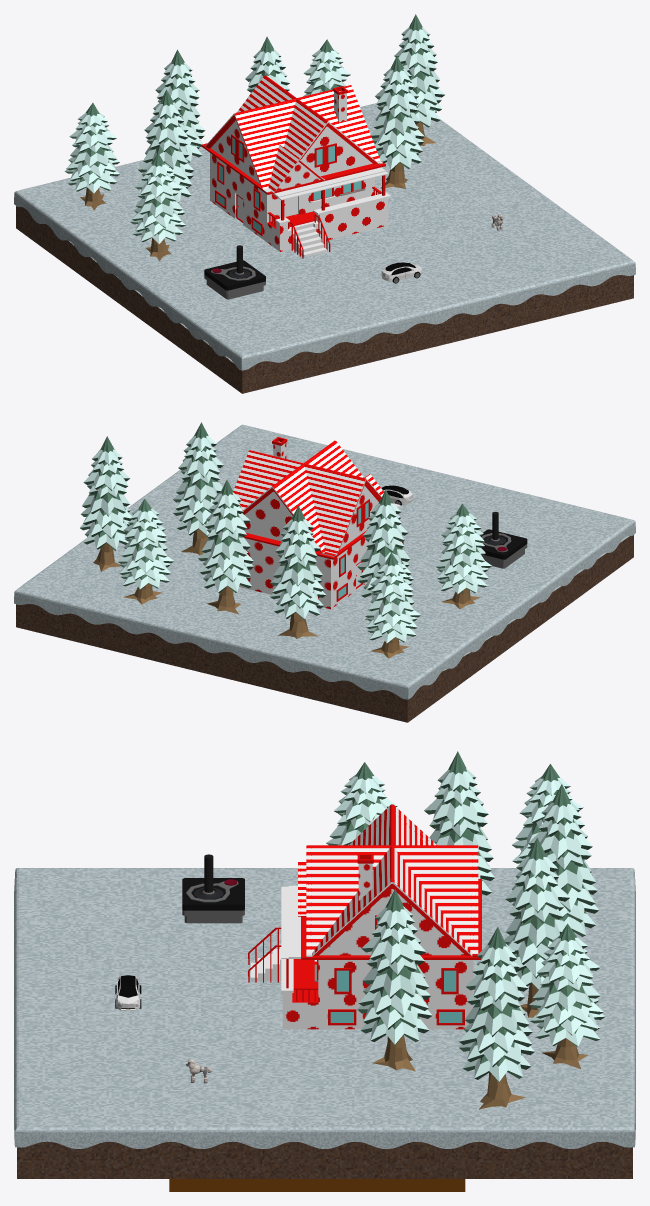
The picture shows the model from 3 angles, top to bottom: view 1: azimuth 30°, elevation 25°; view 2: azimuth 150°, elevation 25°; view 3: azimuth 270°, elevation 25°; orthographic projection. The views are drawn at different scales.
Visible parts, largest first — view 1: Cube.003, Cube.196, OBJRANDOM_JOYSTICK, VEHICLES_TESLA; view 2: Cube.003, Cube.196, OBJRANDOM_JOYSTICK, VEHICLES_TESLA; view 3: Cube.003, Cube.196, UNDERGROUND_ART_PIECE_VAN_GOGH, OBJRANDOM_JOYSTICK, VEHICLES_TESLA.
Boxes of the visible parts, left/top/right/bottom form: Cube.003: left=14, top=14, right=635, bottom=393; Cube.196: left=201, top=75, right=390, bottom=258; OBJRANDOM_JOYSTICK: left=204, top=245, right=265, bottom=299; VEHICLES_TESLA: left=381, top=262, right=422, bottom=283; Cube.003: left=14, top=422, right=635, bottom=722; Cube.196: left=233, top=437, right=403, bottom=609; OBJRANDOM_JOYSTICK: left=481, top=512, right=527, bottom=568; VEHICLES_TESLA: left=381, top=485, right=412, bottom=505; Cube.003: left=14, top=751, right=635, bottom=1178; Cube.196: left=248, top=804, right=481, bottom=1029; UNDERGROUND_ART_PIECE_VAN_GOGH: left=169, top=1179, right=465, bottom=1191; OBJRANDOM_JOYSTICK: left=182, top=854, right=244, bottom=923; VEHICLES_TESLA: left=115, top=975, right=141, bottom=1010.
Size of the model in its own units: 4040 by 1818 by 4040.
30 materials, 5 textured.
